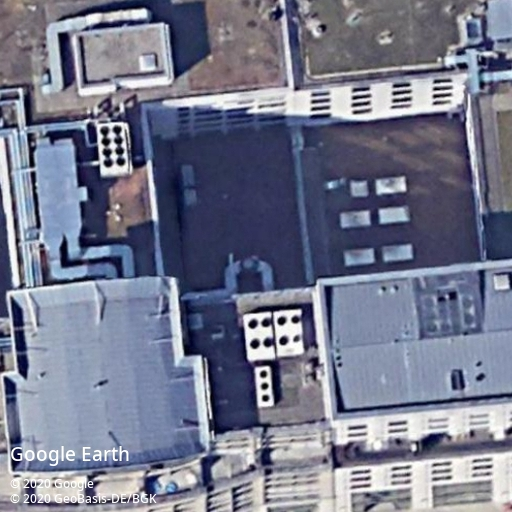Chiller: (96, 121, 133, 177), (242, 310, 277, 362), (274, 308, 304, 358), (253, 364, 275, 408)
